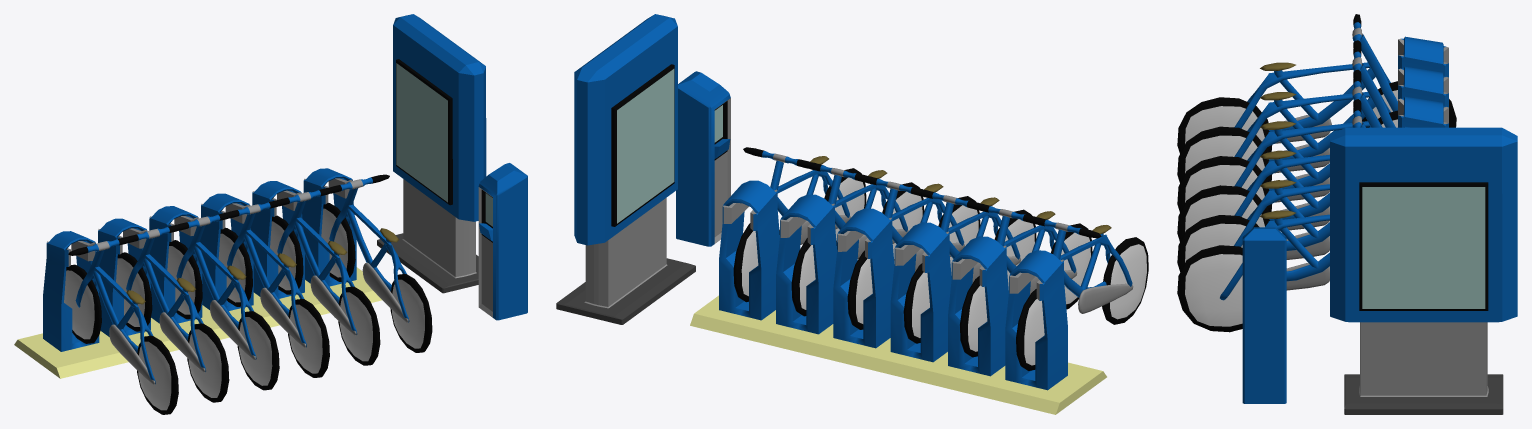
Rendered from Bicycle_Parking.fbx.
3 renders of one model, left to right at view 1: azimuth 30°, elevation 25°; view 2: azimuth 150°, elevation 25°; view 3: azimuth 270°, elevation 25°, orthographic. The views are drawn at different scales.
Parts seen in each view (by area): view 1: Sign_Board, pCube156 (×6), pCube155 (×6), Pay, Block, pCube160 (×6), pCube159 (×6), Stop_07, pCube158 (×6), Stop_01, Stop_03, Stop_04 (+2 smaller); view 2: Sign_Board, Block, Pay, pCube155 (×6), pCube156 (×6), Stop_03, Stop_07, Stop_04, Stop_01, Stop_05, Stop_06, pCube160 (×6) (+1 smaller); view 3: Sign_Board, pCube156 (×6), Pay, pCube160 (×6), pCube158 (×6), pCube161 (×6), pCube157 (×3), Stop_06, Stop_07, pCube159 (×3), Stop_05, pCube155.
Part boxes in pixels (<box>): Sign_Board: <box>377,14,486,293</box>; pCube156 (×6): <box>137,274,432,414</box>; pCube155 (×6): <box>64,202,355,343</box>; Pay: <box>478,163,527,320</box>; Block: <box>14,267,381,378</box>; pCube160 (×6): <box>94,204,409,384</box>; pCube159 (×6): <box>109,262,408,384</box>; Stop_07: <box>43,231,99,351</box>; pCube158 (×6): <box>93,208,391,352</box>; Stop_01: <box>302,168,356,286</box>; Stop_03: <box>250,181,304,298</box>; Stop_04: <box>200,193,253,310</box>; Sign_Board: <box>556,14,695,324</box>; Block: <box>690,295,1106,414</box>; Pay: <box>676,71,730,246</box>; pCube155 (×6): <box>733,223,1044,370</box>; pCube156 (×6): <box>824,168,1148,324</box>; Stop_03: <box>776,194,837,334</box>; Stop_07: <box>1005,250,1067,390</box>; Stop_04: <box>833,208,894,348</box>; Stop_01: <box>719,180,779,320</box>; Stop_05: <box>890,222,951,362</box>; Stop_06: <box>948,236,1008,376</box>; pCube160 (×6): <box>777,170,1132,286</box>; Sign_Board: <box>1330,127,1517,414</box>; pCube156 (×6): <box>1177,97,1272,332</box>; Pay: <box>1242,227,1286,403</box>; pCube160 (×6): <box>1220,62,1370,300</box>; pCube158 (×6): <box>1269,68,1375,281</box>; pCube161 (×6): <box>1274,70,1318,268</box>; pCube157 (×3): <box>1360,34,1397,127</box>; Stop_06: <box>1398,66,1448,107</box>; Stop_07: <box>1398,36,1448,77</box>; pCube159 (×3): <box>1274,115,1331,290</box>; Stop_05: <box>1398,96,1448,127</box>; pCube155: <box>1362,81,1456,127</box>.
Size of the model in its own units: 295 by 144 by 167.
